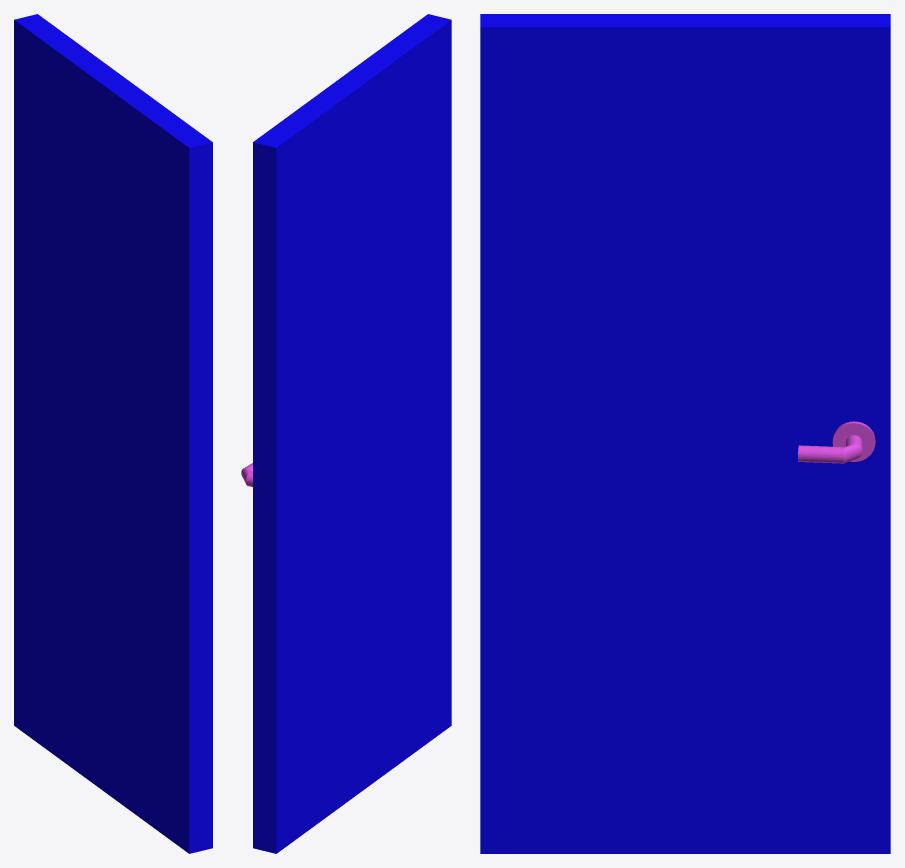
Rendered from office door.fbx.
3 views of the same model, side by side, from view 1: azimuth 30°, elevation 25°; view 2: azimuth 150°, elevation 25°; view 3: azimuth 270°, elevation 25° (orthographic). The views are drawn at different scales.
Visible parts, largest first — view 1: Cube; view 2: Cube; view 3: Cube, Cylinder.
Part boxes in pixels (bbox=[...]): Cube: bbox=[14, 14, 212, 853]; Cube: bbox=[253, 14, 451, 853]; Cube: bbox=[480, 14, 890, 853]; Cylinder: bbox=[798, 421, 875, 463].
Size of the model in its own units: 16.39 by 200 by 90.
